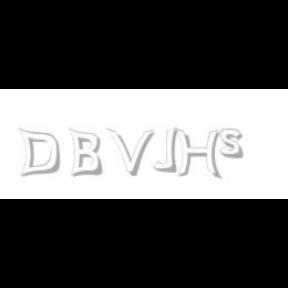B: (68, 128, 102, 178)
D: (17, 128, 60, 178)
H: (175, 128, 221, 180)
J: (152, 128, 178, 172)
V: (107, 128, 155, 176)
s: (220, 128, 248, 160)
